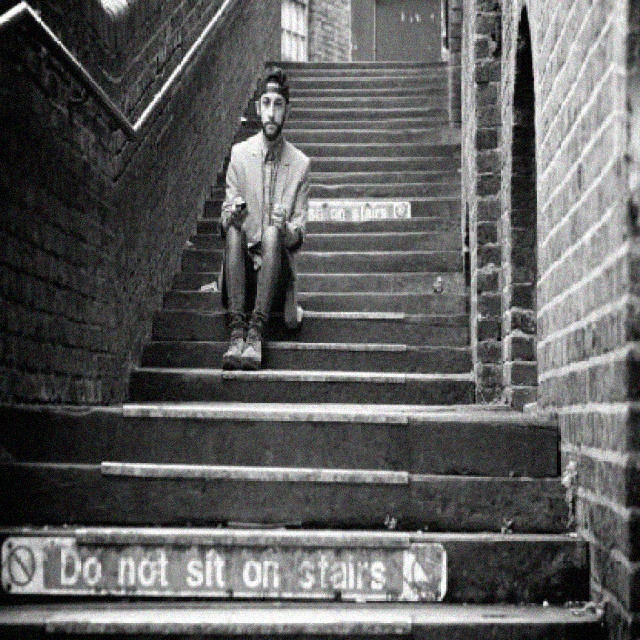stair: (0, 58, 606, 638)
